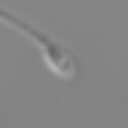normal: (1, 11, 49, 45)
